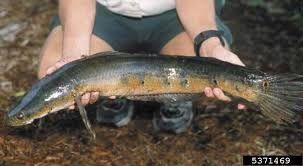Snakehead: (6, 52, 303, 128)
